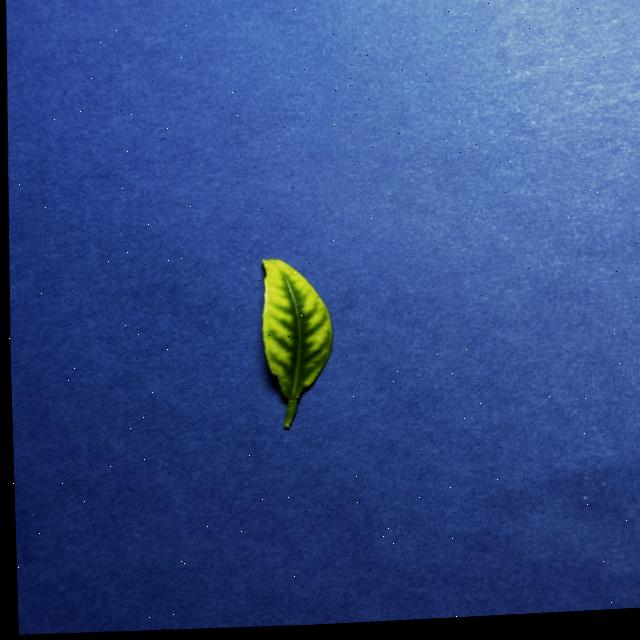greening: (262, 259, 332, 428)
